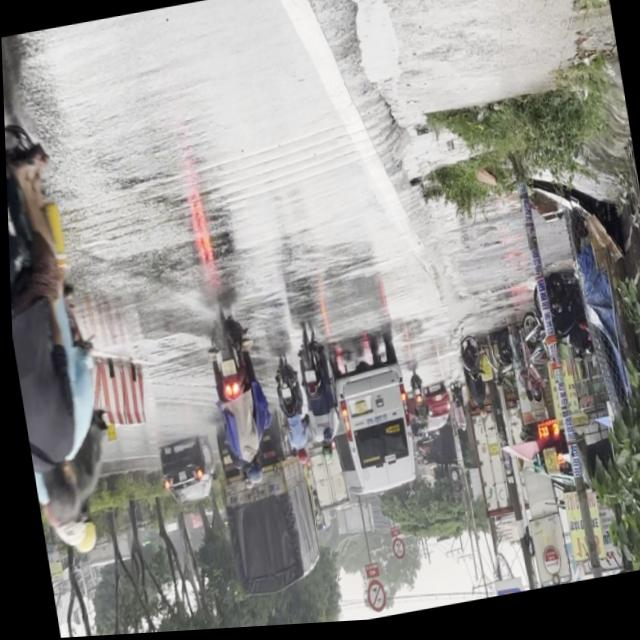helmet: (64, 509, 95, 558), (238, 459, 260, 490)
licenseplate: (2, 60, 123, 563), (195, 306, 275, 496)
motorcyclist: (32, 458, 81, 532)
nohelmet: (216, 362, 233, 380)
